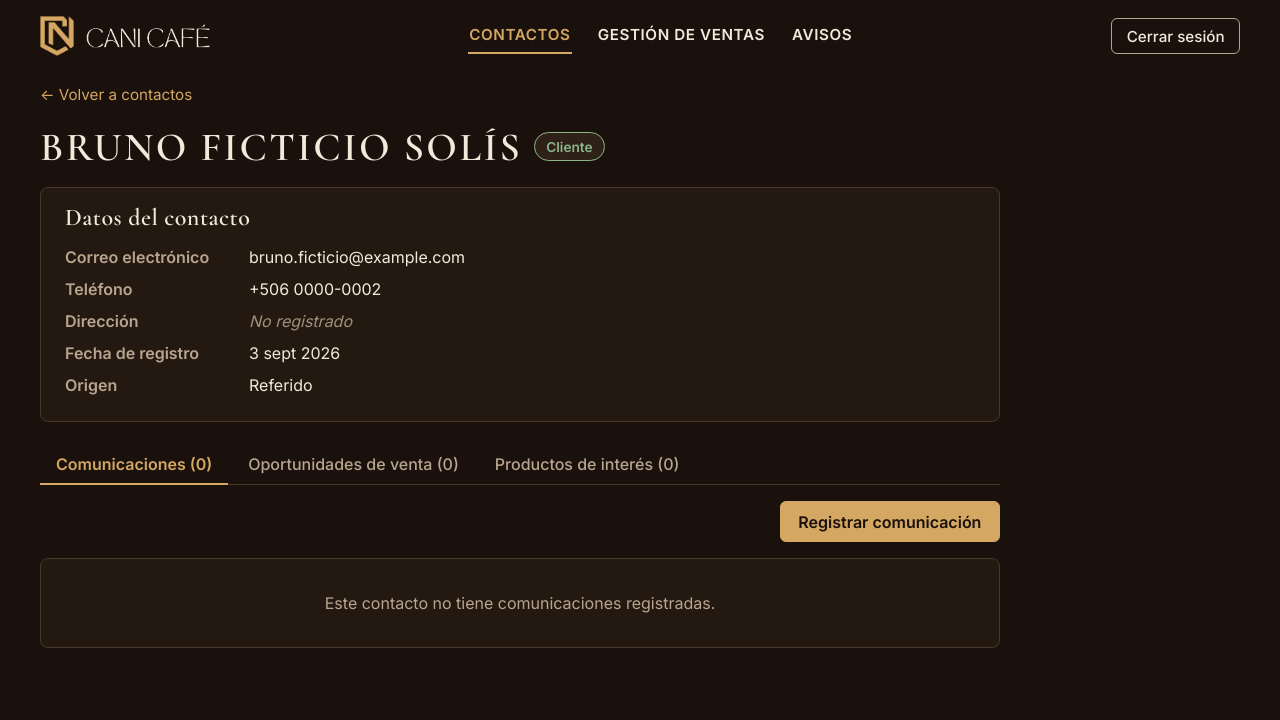
Test case: HU-208 Ver las oportunidades de venta de un contacto › criterio 4: sin oportunidades de venta → "Este contacto no tiene oportunidades de venta." (sin tabla)
Click the tab "Oportunidades de venta (0)": x=354, y=465 x1=232 y1=446 x2=475 y2=485
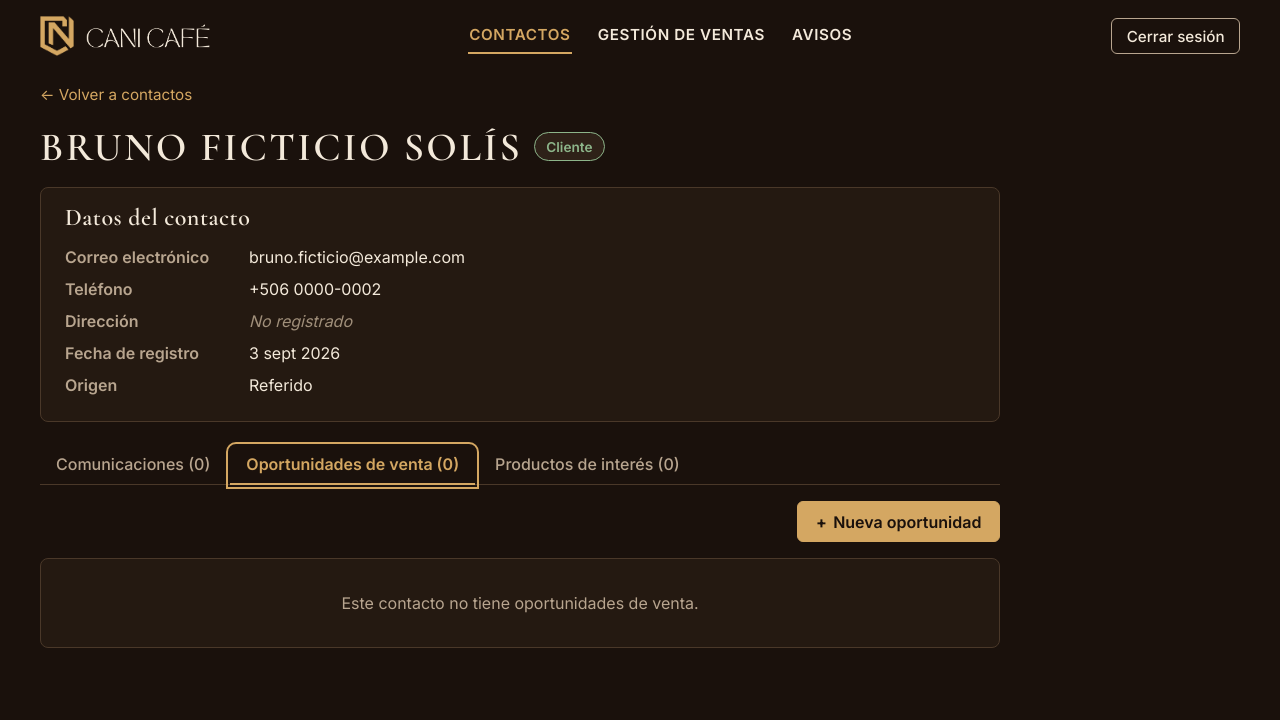
expect the text "Este contacto no tiene oportunidades de venta." is shown: met, box x1=40 y1=558 x2=1000 y2=648
